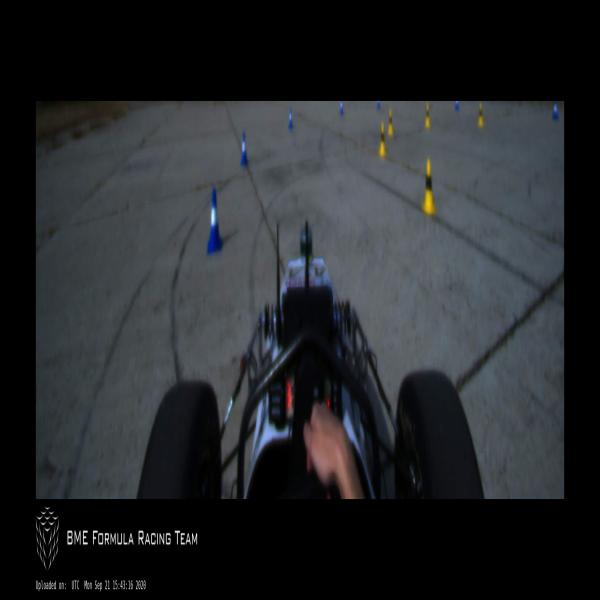blue_cone: (207, 189, 222, 251), (241, 134, 247, 165), (552, 101, 558, 120), (288, 109, 292, 127), (340, 101, 343, 114), (376, 101, 380, 108), (455, 101, 458, 110)
yellow_cone: (421, 158, 436, 212), (379, 124, 386, 156), (477, 104, 484, 127), (424, 104, 430, 127), (388, 109, 393, 135)
